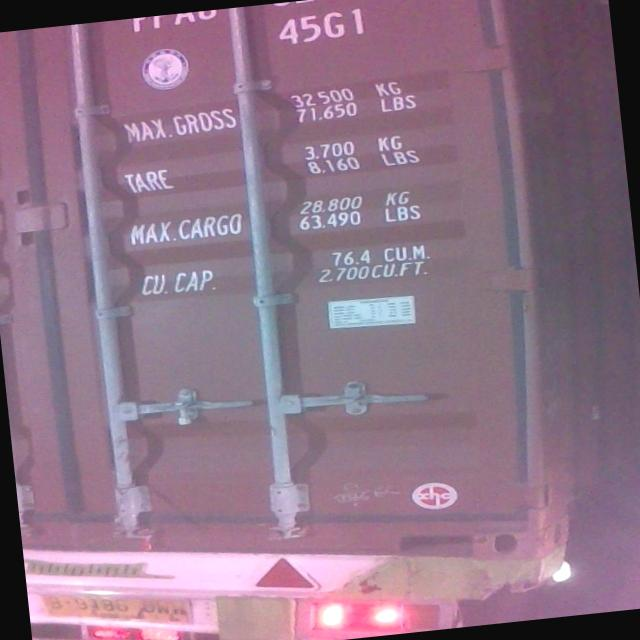seal: (168, 393, 196, 428), (138, 518, 163, 554)
